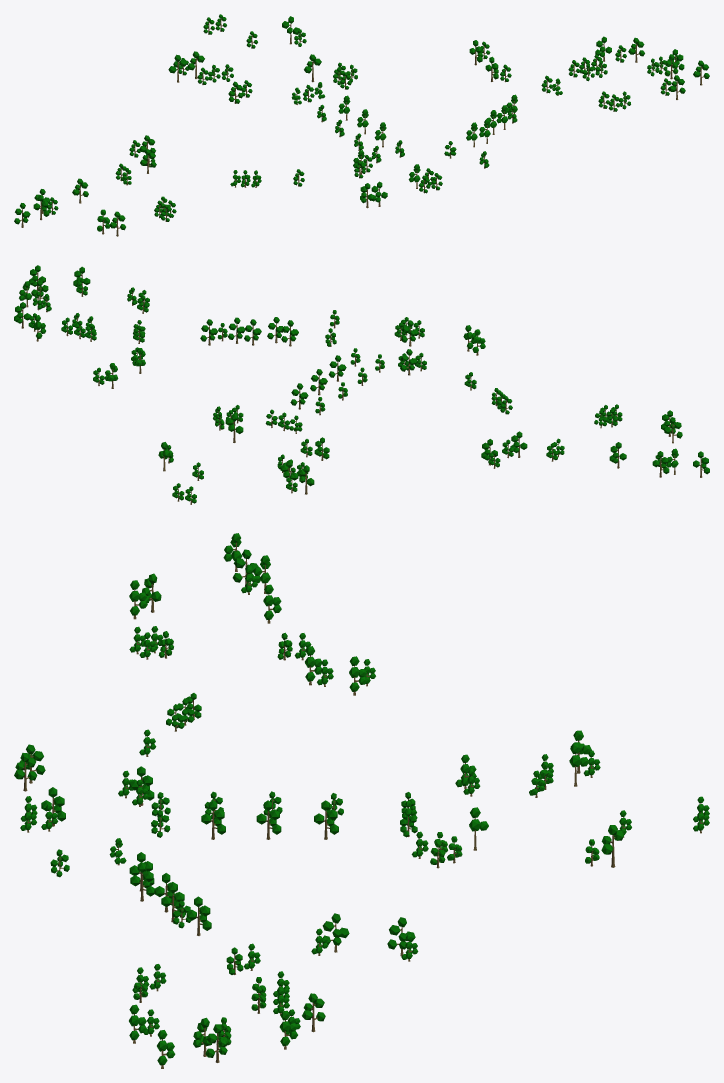
File: Stage1Trees.fbx
The picture shows the model from 3 angles, top to bottom: view 1: azimuth 30°, elevation 25°; view 2: azimuth 150°, elevation 25°; view 3: azimuth 270°, elevation 25°; orthographic projection. The views are drawn at different scales.
Size of the model in its own units: 331 by 12.74 by 191.
